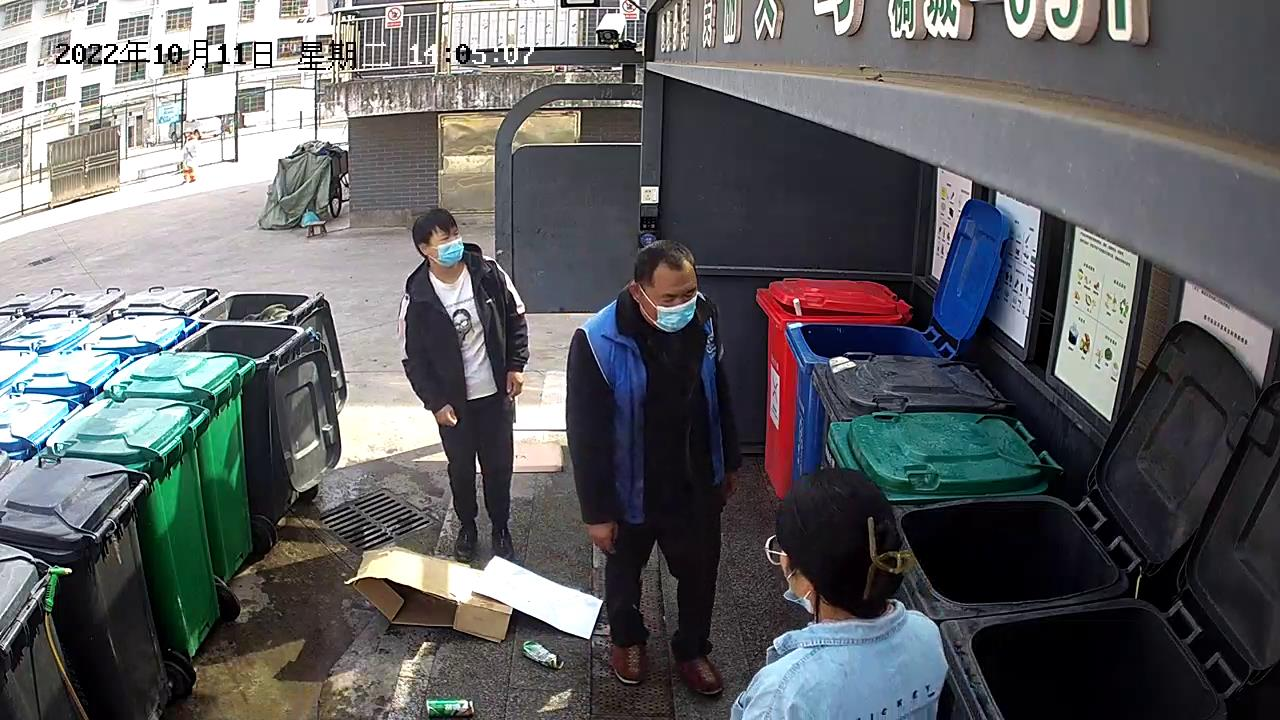lvzhipin: (519, 636, 567, 671), (424, 695, 476, 720)
person: (395, 206, 531, 561)
worker: (561, 239, 741, 698), (726, 464, 951, 720)
zhizhipin: (342, 544, 606, 647), (510, 435, 566, 476)
